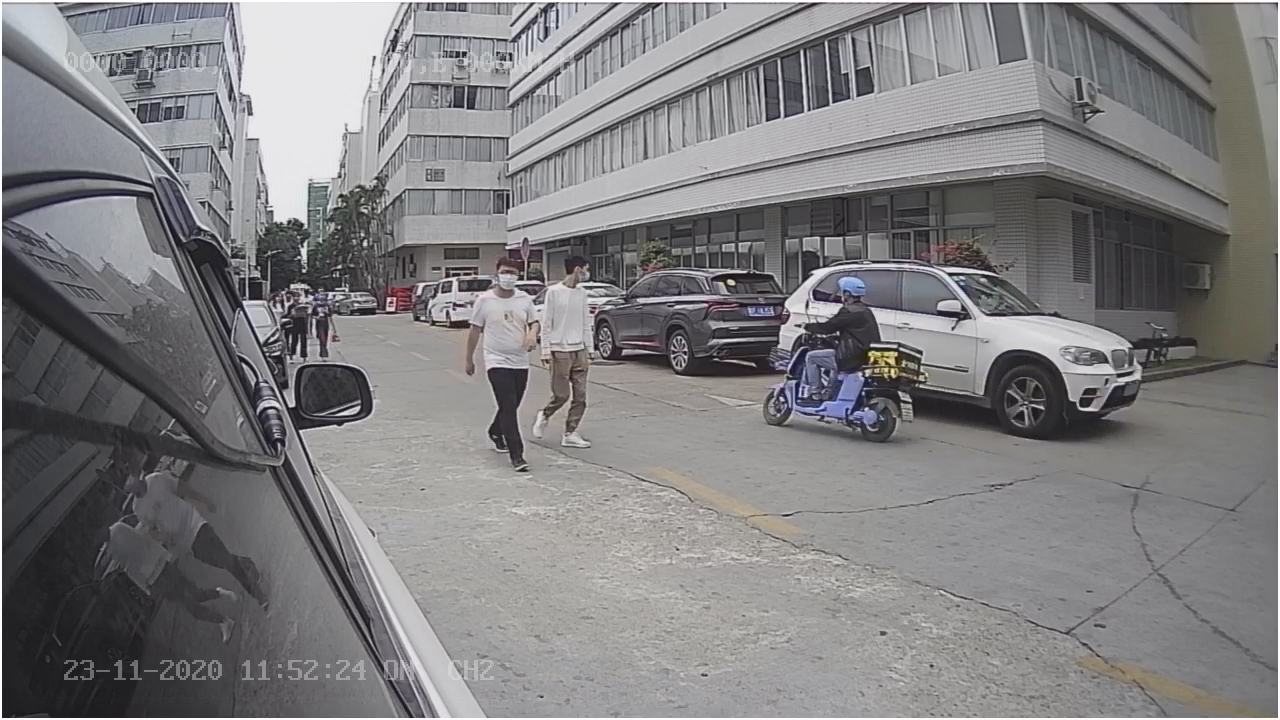person: (470, 253, 536, 467), (544, 253, 591, 449)
